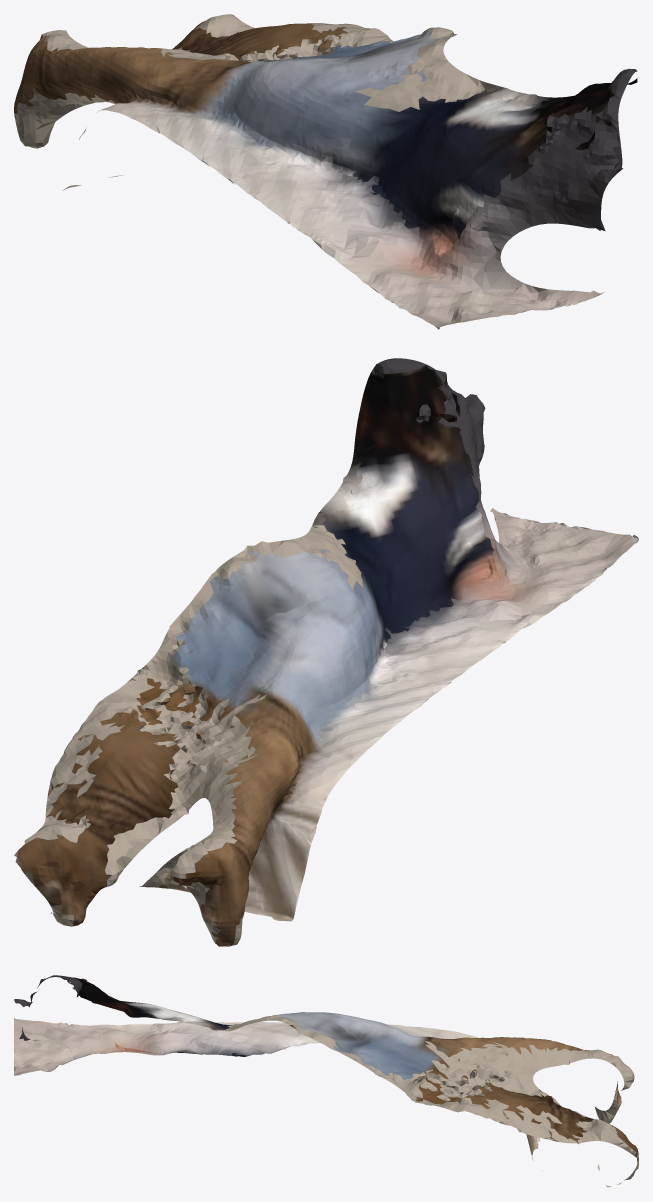
3 views of the same model, one above another, from view 1: azimuth 30°, elevation 25°; view 2: azimuth 150°, elevation 25°; view 3: azimuth 270°, elevation 25° (orthographic). The views are drawn at different scales.
Size of the model in its own units: 0.5537 by 0.6211 by 1.63.
Materials: 1 (1 with a texture image).
